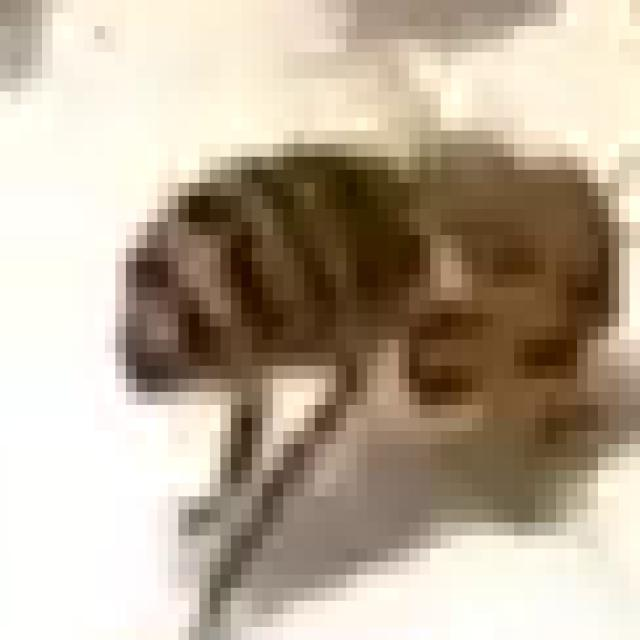honeybee: (100, 143, 617, 559)
